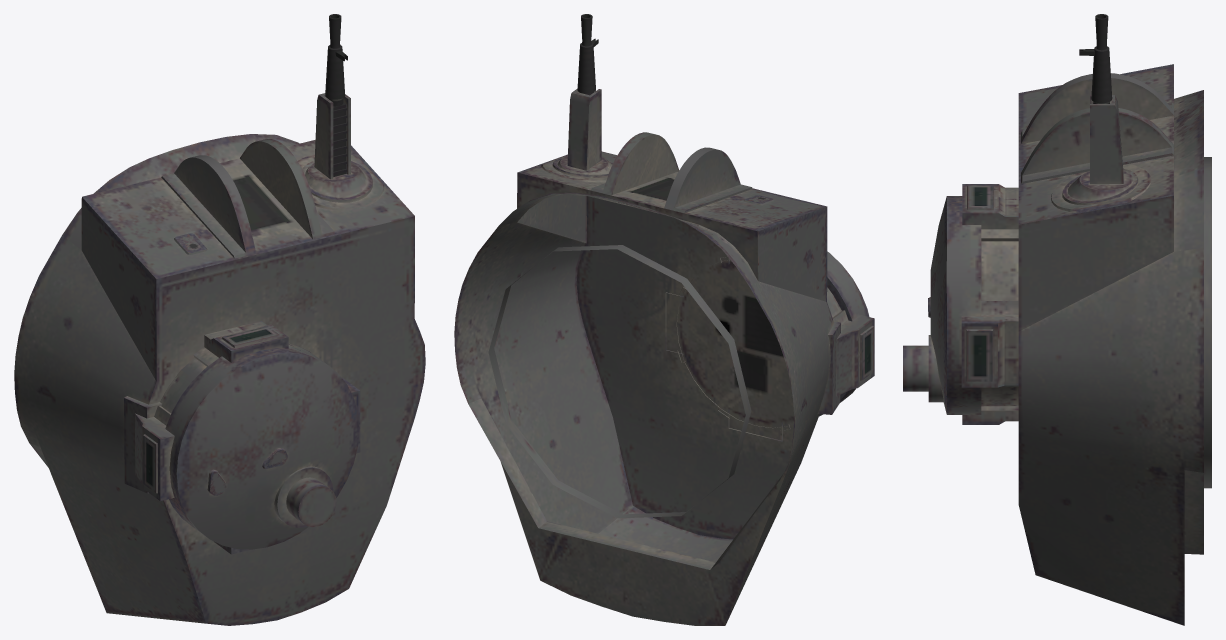
File: Turret_01.glb
3 renders of one model, left to right at view 1: azimuth 30°, elevation 25°; view 2: azimuth 150°, elevation 25°; view 3: azimuth 270°, elevation 25°, orthographic. The views are drawn at different scales.
Parts seen in each view (by area): view 1: set_0_group_0; view 2: set_0_group_0; view 3: set_0_group_0.
Part boxes in pixels (box(x1,y1,x2,y2)): set_0_group_0: box(14, 14, 425, 625); set_0_group_0: box(454, 14, 874, 625); set_0_group_0: box(903, 14, 1211, 625).
Bounding box in the file's own units: 1.35 × 2.09 × 0.9454.
Materials: 1 (1 with a texture image).
